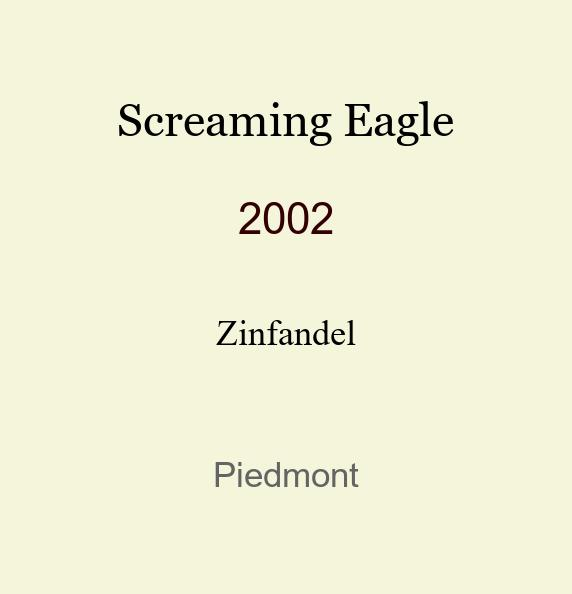brand: (117, 93, 454, 138)
region: (213, 455, 359, 480)
variety: (216, 312, 356, 337)
vintage: (238, 194, 334, 226)
